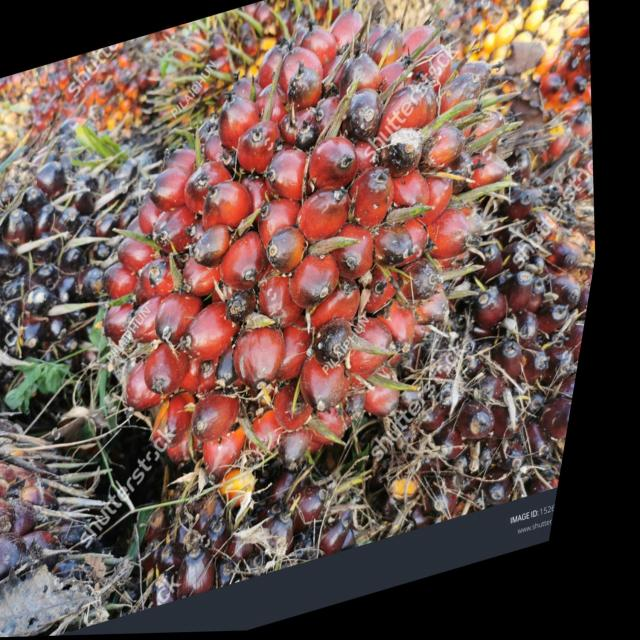Ripefruit: (48, 0, 580, 542)
